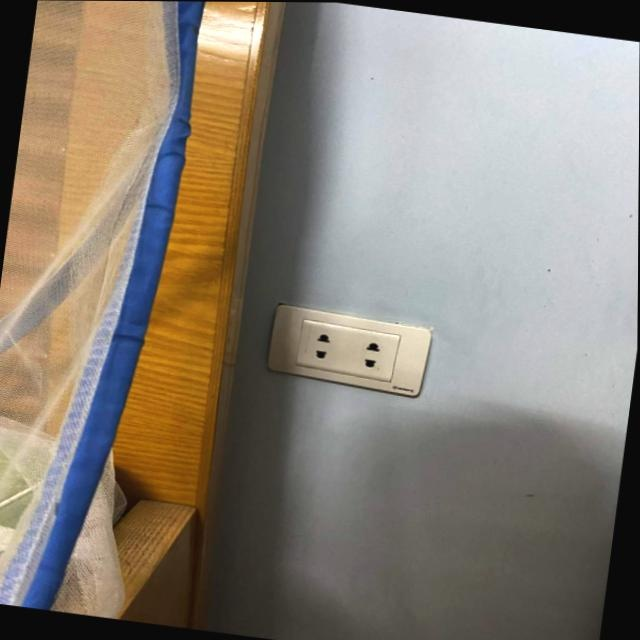outlet: (264, 301, 433, 399)
